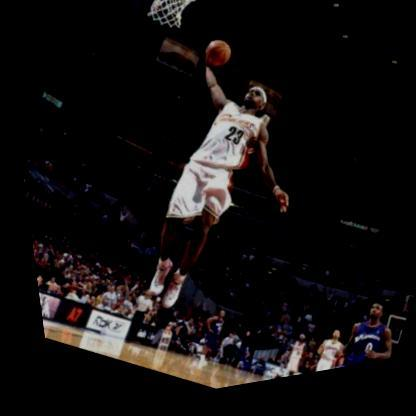basketball: (197, 42, 235, 81)
rim: (130, 0, 231, 53)
